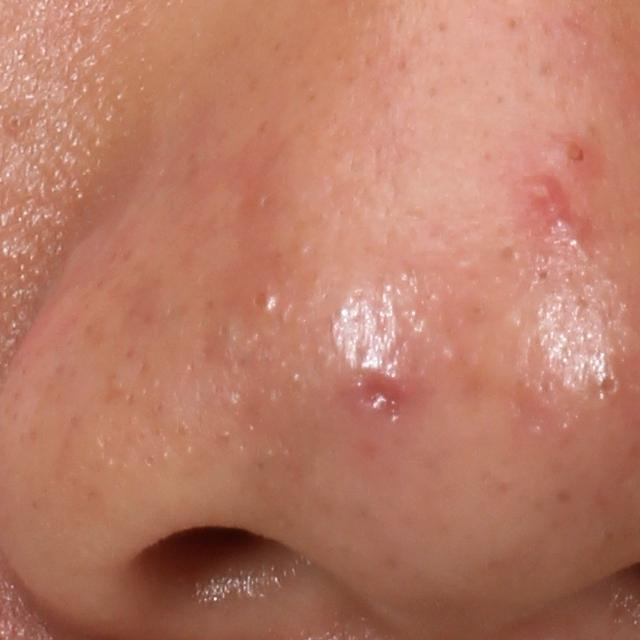comedo: (251, 285, 281, 314), (3, 111, 26, 133)
papule: (552, 135, 597, 175)
pustule: (520, 172, 563, 204)
